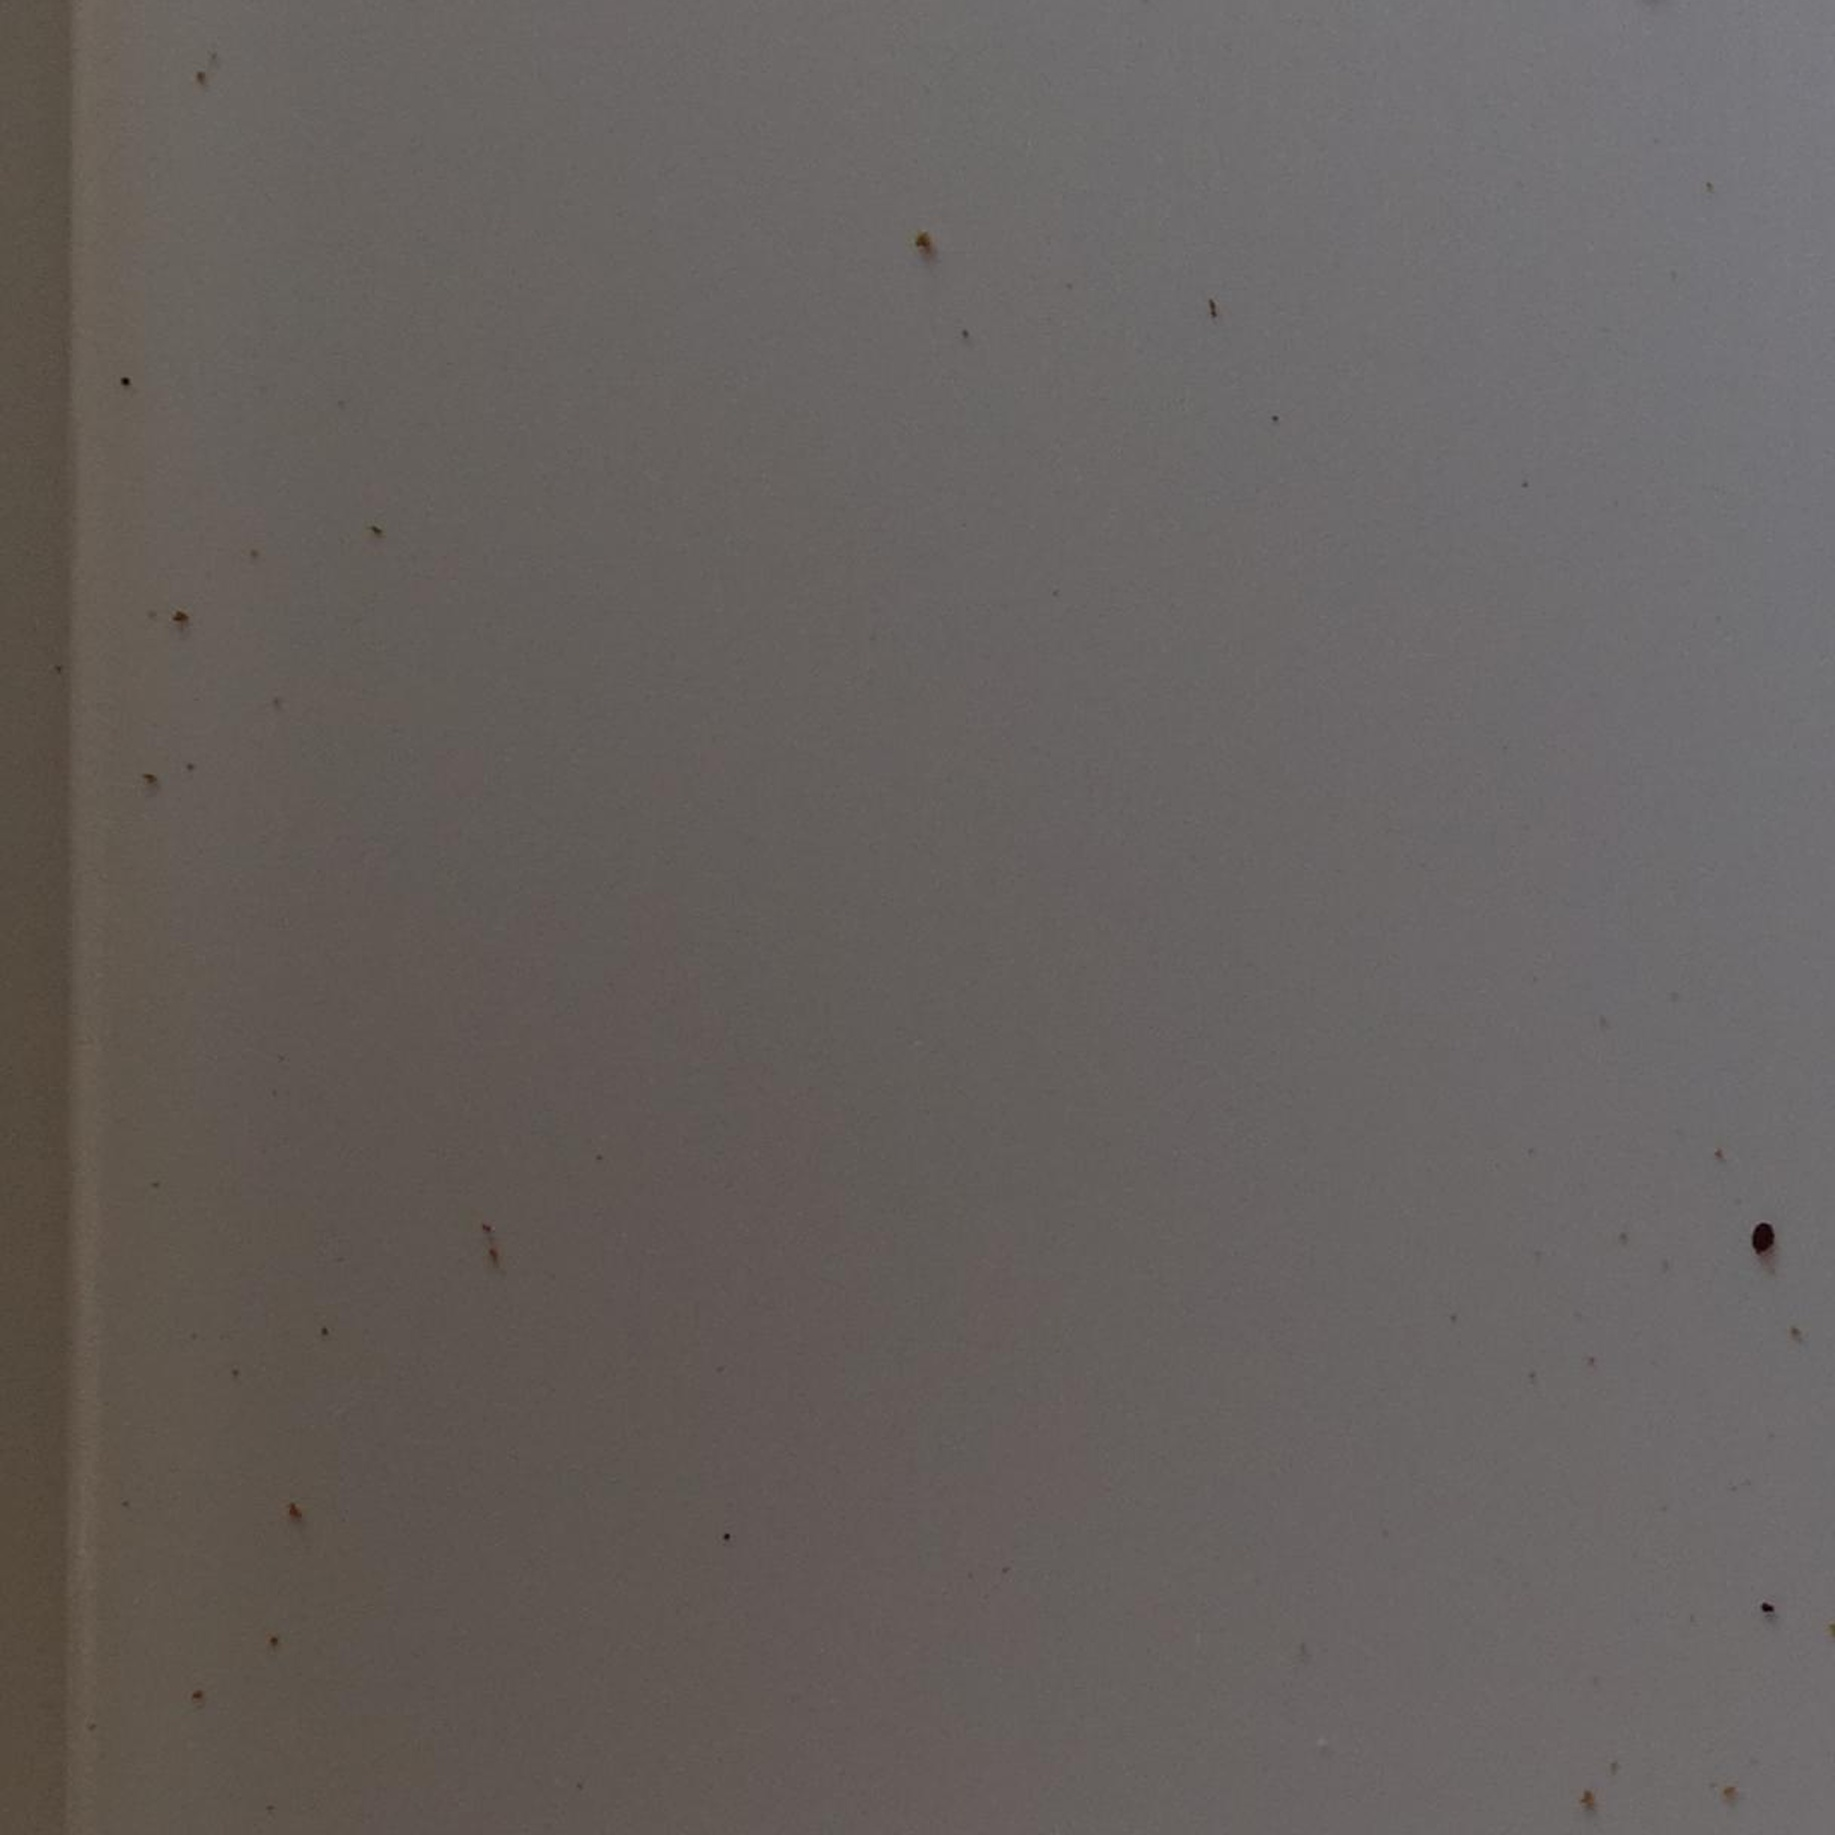Varroa: (1744, 1223, 1775, 1254)
